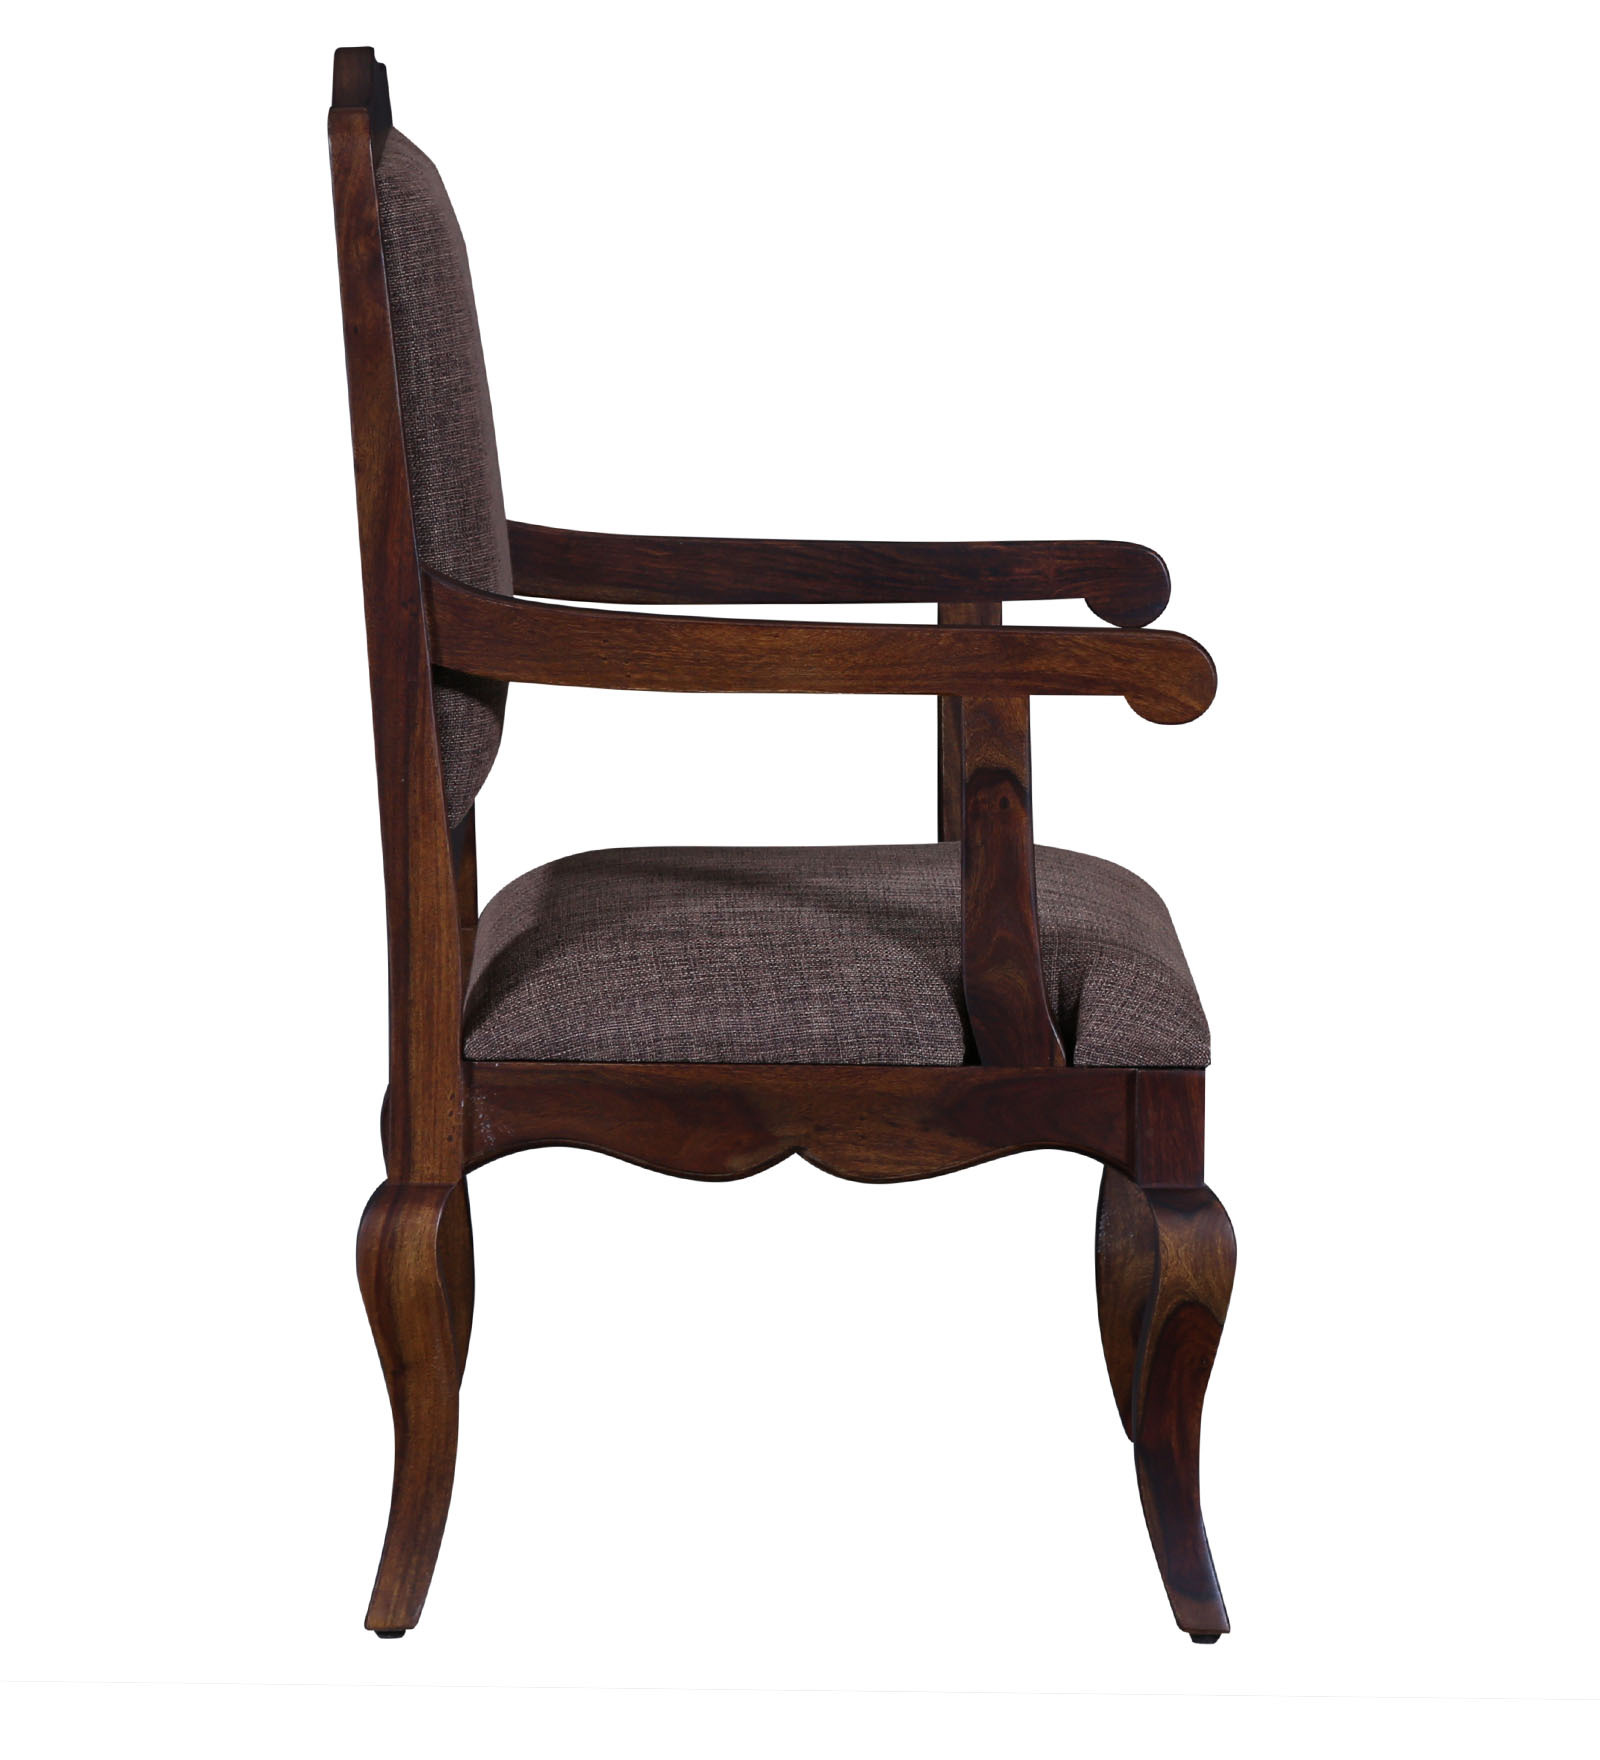Anne Arm Chair in Provincial Teak Finish by Amberville: (261, 38, 1298, 1706)
